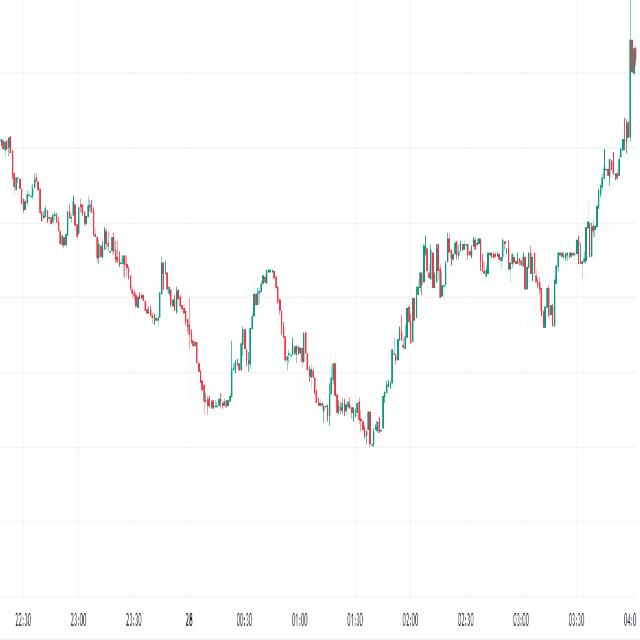Head-Shoulders: (218, 243, 320, 432)
